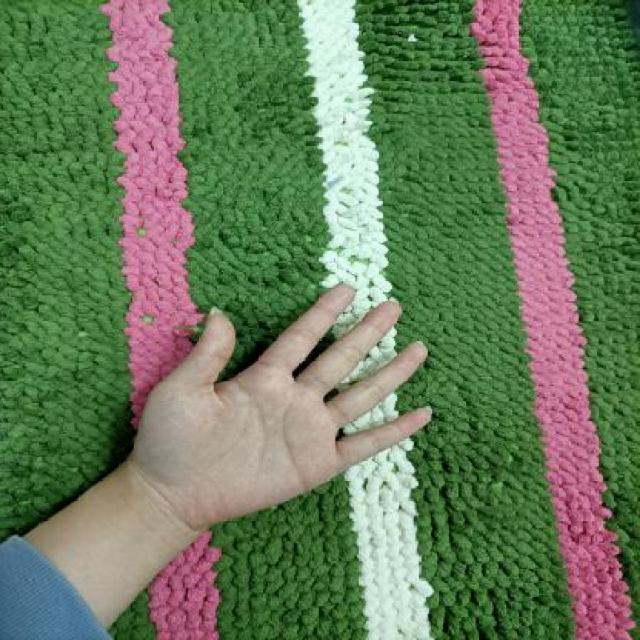no_glove: (111, 268, 460, 544)
